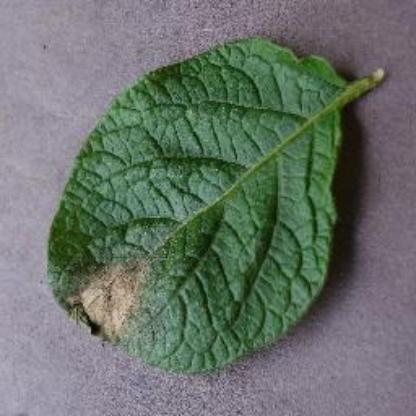Late-Blight: (32, 27, 398, 381)
